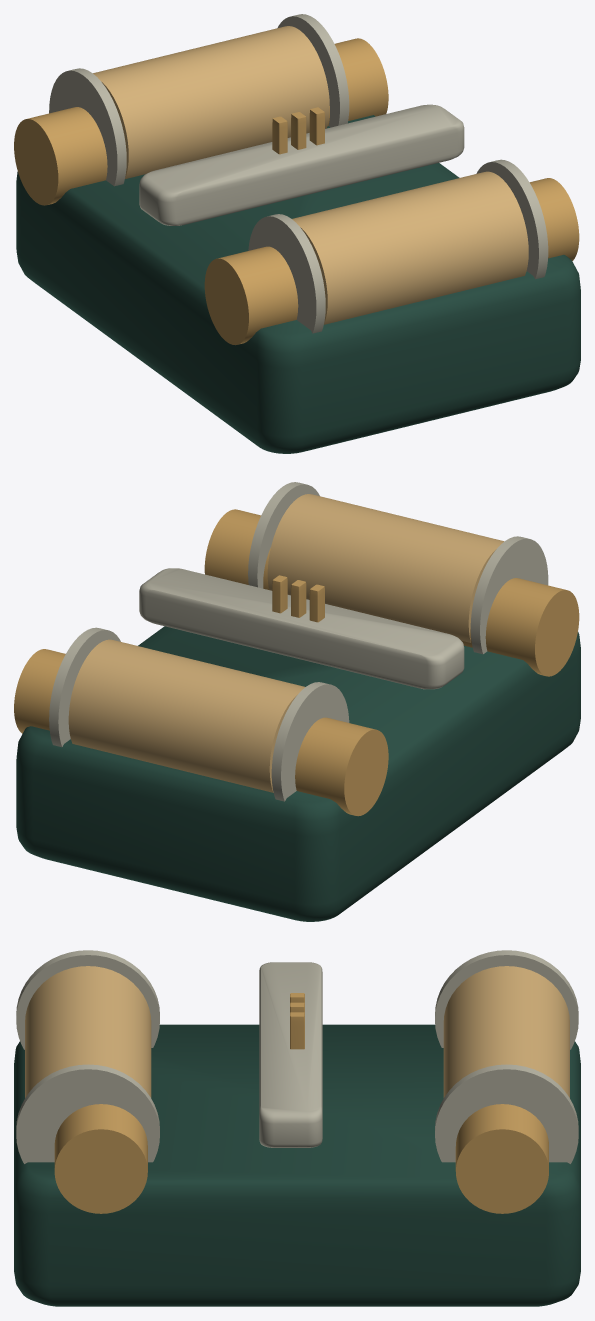
File: Atelier.glb
3 renders of one model, top to bottom at view 1: azimuth 30°, elevation 25°; view 2: azimuth 150°, elevation 25°; view 3: azimuth 270°, elevation 25°, orthographic. The views are drawn at different scales.
Parts seen in each view (by area): view 1: Recorder casing, Wound paper (×2), Tape axle (×2), Reader throat, Feed reel lip (×4), Reader spring (×3); view 2: Recorder casing, Wound paper (×2), Tape axle (×2), Reader throat, Feed reel lip (×4), Reader spring (×3); view 3: Recorder casing, Wound paper (×2), Feed reel lip (×4), Tape axle (×2), Reader throat, Reader spring.
Boxes of the visible parts, left/top/right/bottom form: Recorder casing: left=16, top=115, right=580, bottom=453; Wound paper (×2): left=93, top=26, right=528, bottom=324; Tape axle (×2): left=14, top=38, right=579, bottom=345; Reader throat: left=139, top=104, right=464, bottom=225; Feed reel lip (×4): left=49, top=14, right=548, bottom=333; Reader spring (×3): left=272, top=107, right=324, bottom=154; Recorder casing: left=16, top=626, right=580, bottom=921; Wound paper (×2): left=68, top=494, right=504, bottom=792; Tape axle (×2): left=14, top=509, right=579, bottom=816; Reader throat: left=139, top=568, right=464, bottom=689; Feed reel lip (×4): left=49, top=482, right=548, bottom=801; Reader spring (×3): left=272, top=575, right=324, bottom=622; Recorder casing: left=14, top=1024, right=580, bottom=1306; Wound paper (×2): left=25, top=966, right=569, bottom=1097; Feed reel lip (×4): left=16, top=950, right=578, bottom=1163; Tape axle (×2): left=54, top=1104, right=548, bottom=1213; Reader throat: left=259, top=962, right=322, bottom=1147; Reader spring: left=290, top=1012, right=304, bottom=1049.
Size of the model in its own units: 0.92 by 0.5675 by 1.3.
